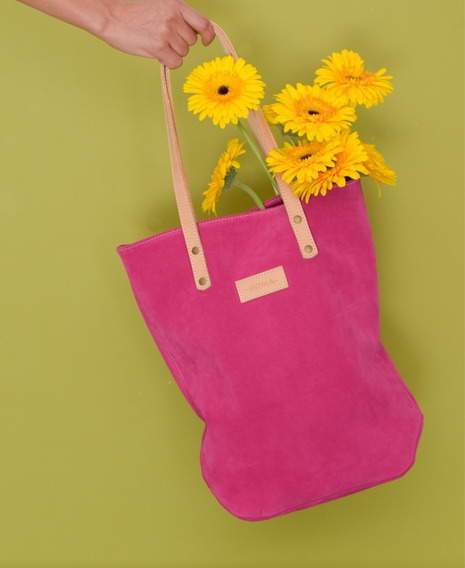cartera: (118, 20, 424, 521)
